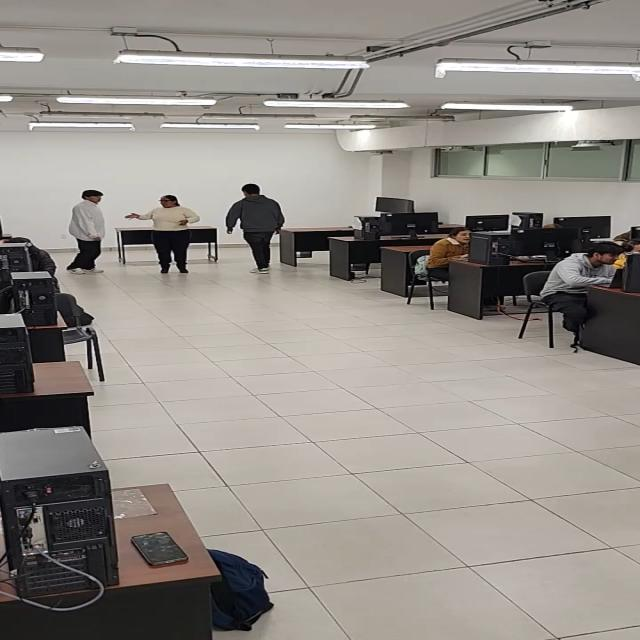Persona: (122, 193, 202, 274), (224, 183, 286, 274), (67, 189, 106, 275)
